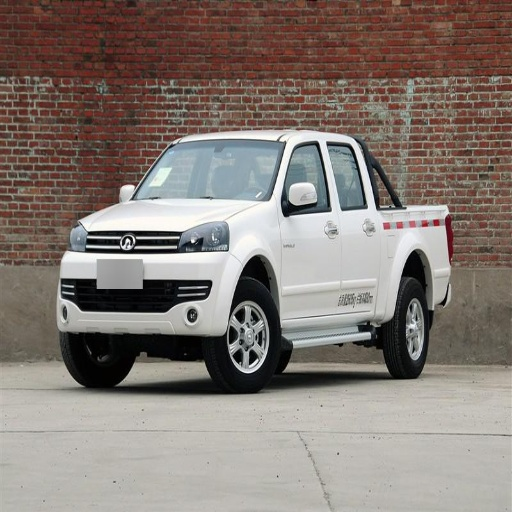back_left_door: (324, 141, 375, 311)
front_bumper: (57, 231, 243, 334)
front_glass: (131, 139, 284, 201)
front_left_door: (279, 140, 341, 318)
trunk: (378, 210, 451, 320)
